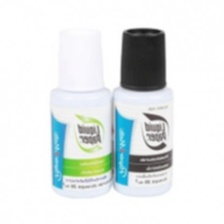correction_fluid: (47, 28, 116, 200), (111, 24, 175, 199)
